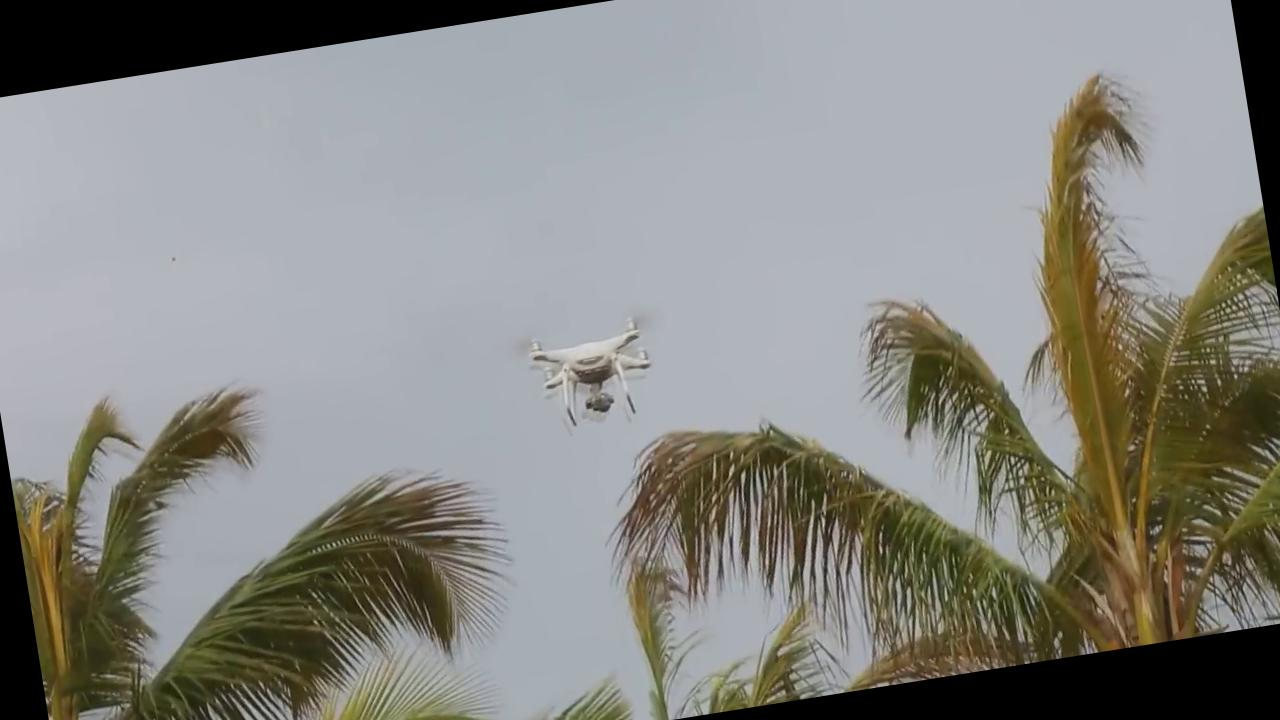drone: (502, 308, 676, 438)
